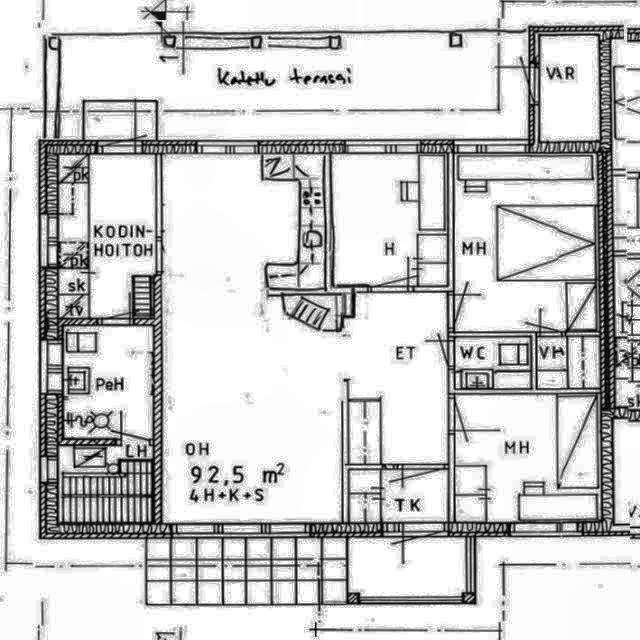room: (161, 153, 448, 523), (456, 154, 598, 331), (456, 395, 599, 520), (332, 154, 450, 287), (59, 155, 155, 318), (64, 326, 153, 438), (60, 446, 152, 522), (541, 36, 599, 141), (350, 471, 448, 522), (455, 338, 530, 389), (538, 337, 599, 388)
